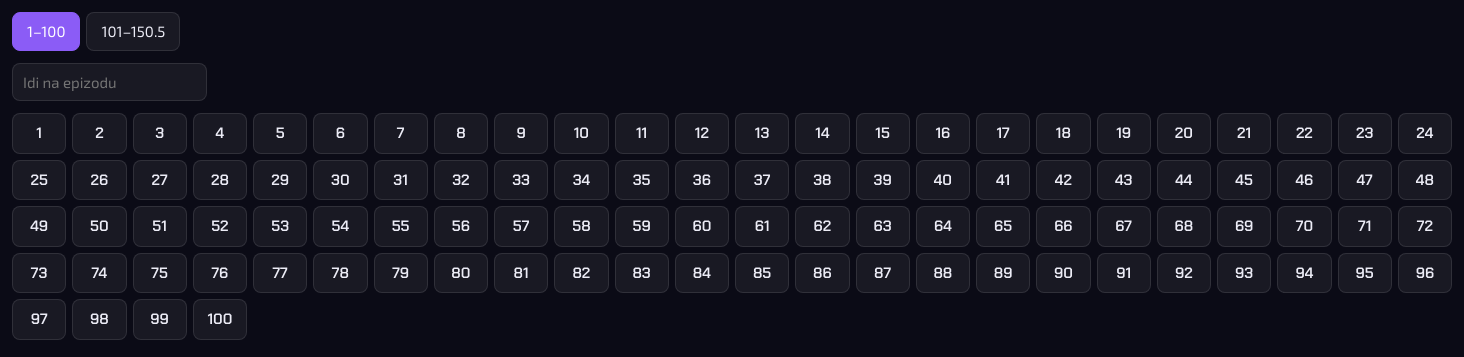
Test: EpisodePicker › jumps to an episode, selects it, and reports a missing one
In the field labelled "Idi na epizodu": [110, 82] box [12,62,207,101], type "150.5"
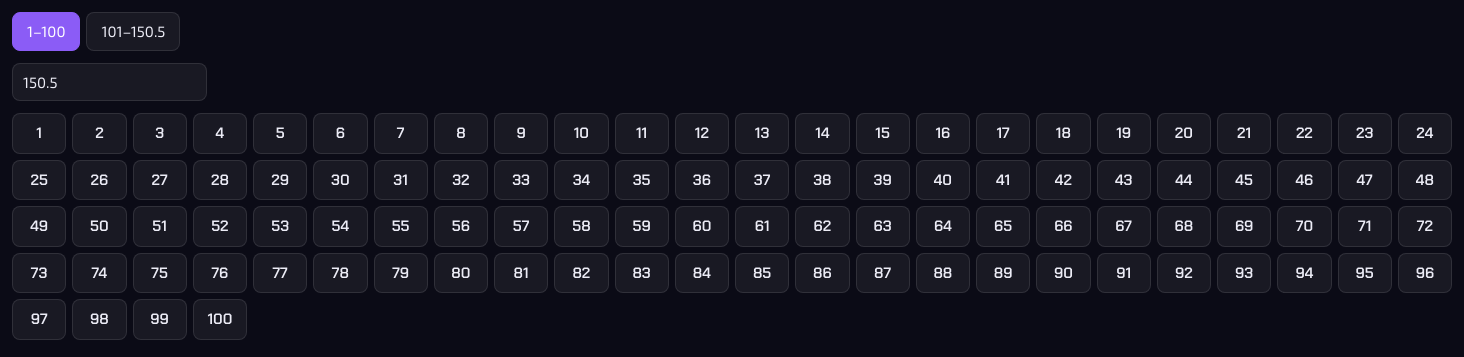
Submit the form from the field named "Idi na epizodu", box [12,62,207,101]
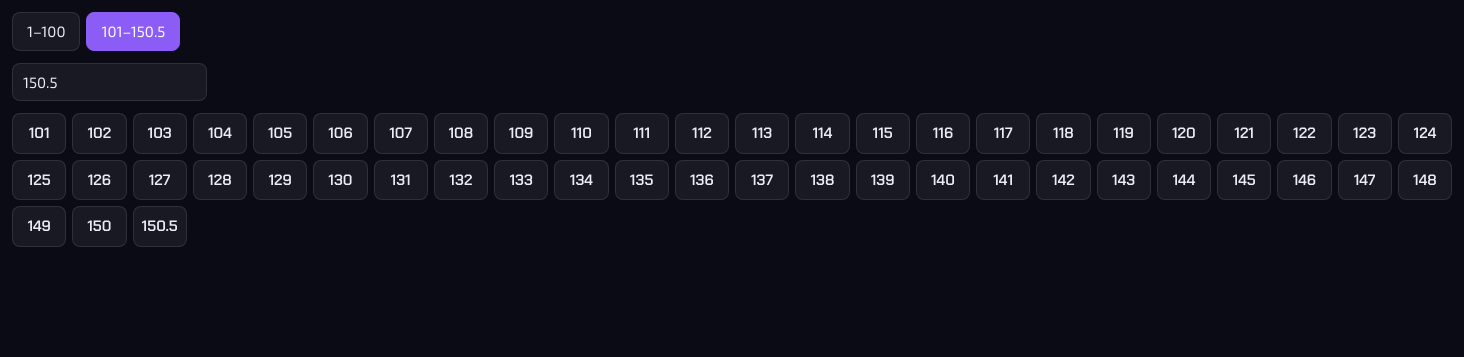
expect the button "101–150.5" is pressed: met, box [86,12,180,50]
Replace the text in the field named "Idi na epizodu" with "999": [110, 82] box [12,62,207,101]
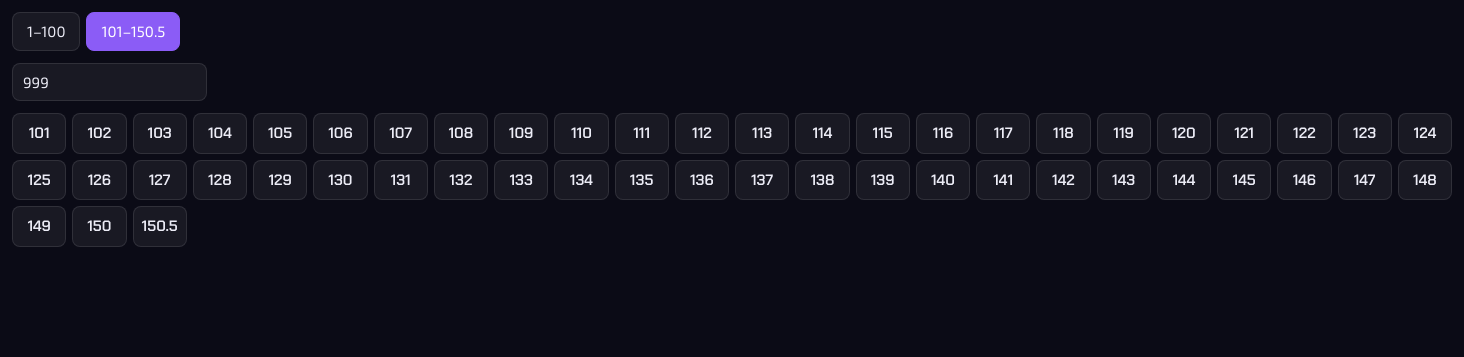
Submit the form from the field named "Idi na epizodu", box [12,62,207,101]
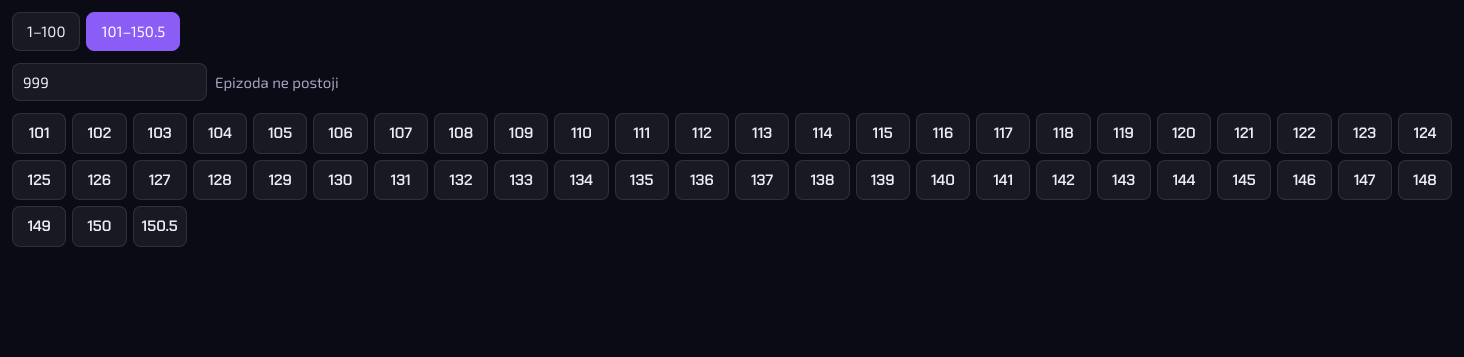
expect the text "Epizoda ne postoji" is shown: met, box [215,70,339,93]
